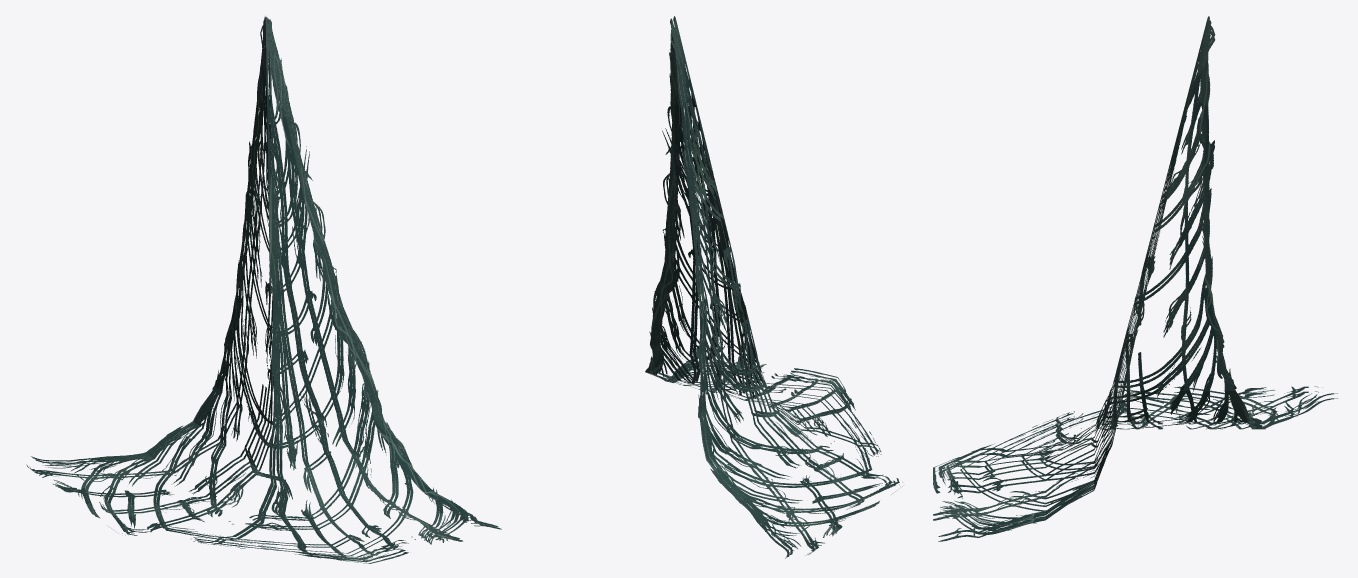
Rendered from Fish_net03.fbx.
The picture shows the model from 3 angles, left to right: view 1: azimuth 30°, elevation 25°; view 2: azimuth 150°, elevation 25°; view 3: azimuth 270°, elevation 25°; orthographic projection. The views are drawn at different scales.
Visible parts, largest first — view 1: Fish_net03; view 2: Fish_net03; view 3: Fish_net03.
Part boxes in pixels (bbox=[...]): Fish_net03: bbox=[26, 16, 501, 563]; Fish_net03: bbox=[645, 16, 903, 558]; Fish_net03: bbox=[933, 16, 1337, 541].
Bounding box in the file's own units: 1.91 × 2.41 × 1.9.
Materials: 1 (1 with a texture image).
